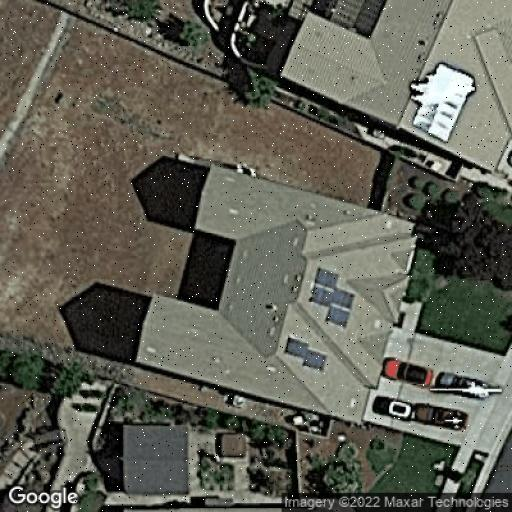solar-panel: (308, 266, 356, 328), (284, 333, 328, 373)
